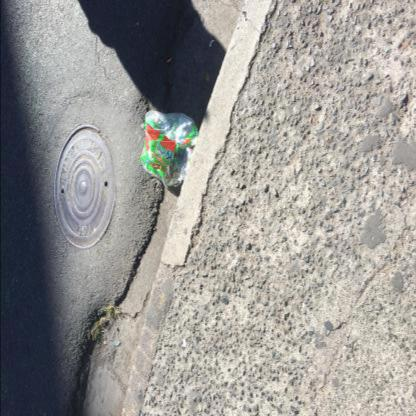Broken glass: (113, 339, 119, 346)
Cigarette: (167, 58, 171, 63)
Plastic bag - wrapper: (140, 110, 199, 188)
